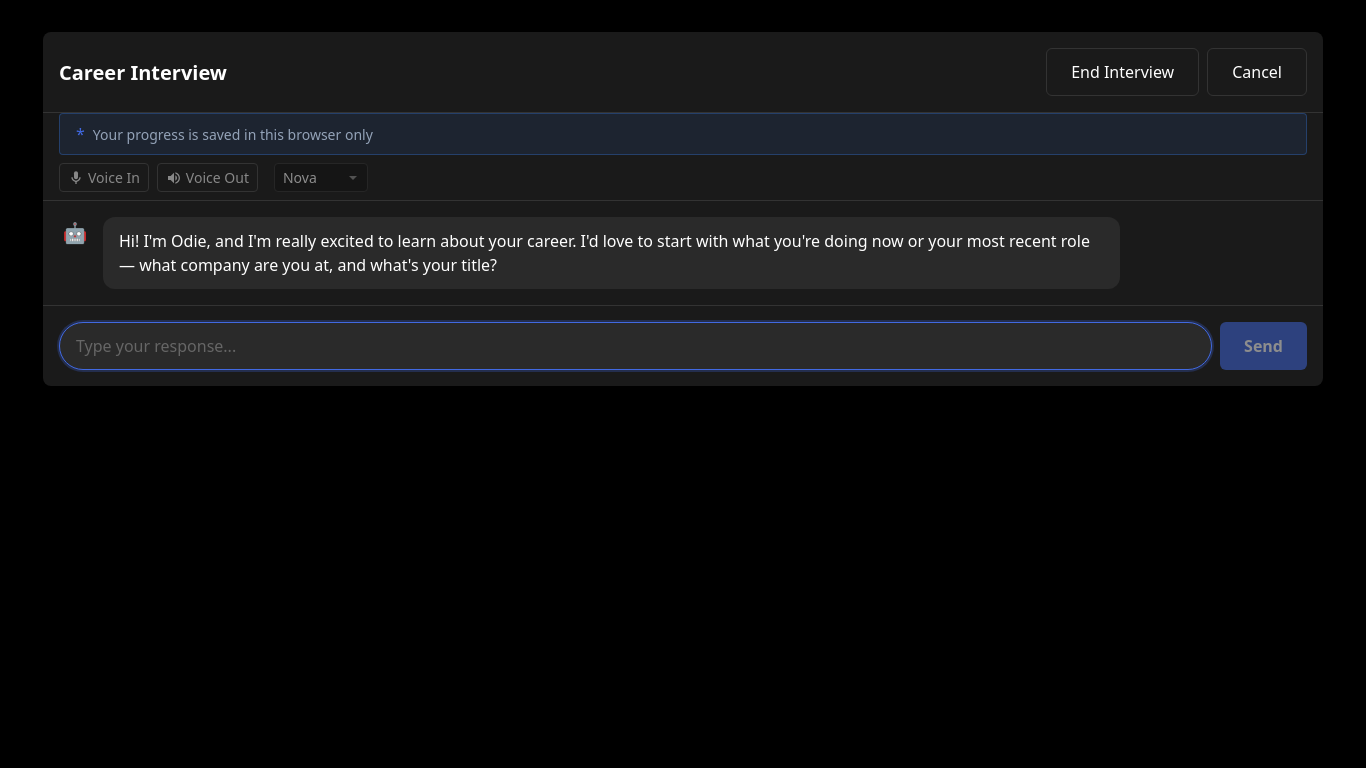
Test: InterviewChat Phase 2 streaming changes › atomic done transition › shouldContinue false from done event causes interview to complete
Step 1. Type "End now" into the field with test id "interview-input" → (636, 346), box [59, 322, 1212, 370]
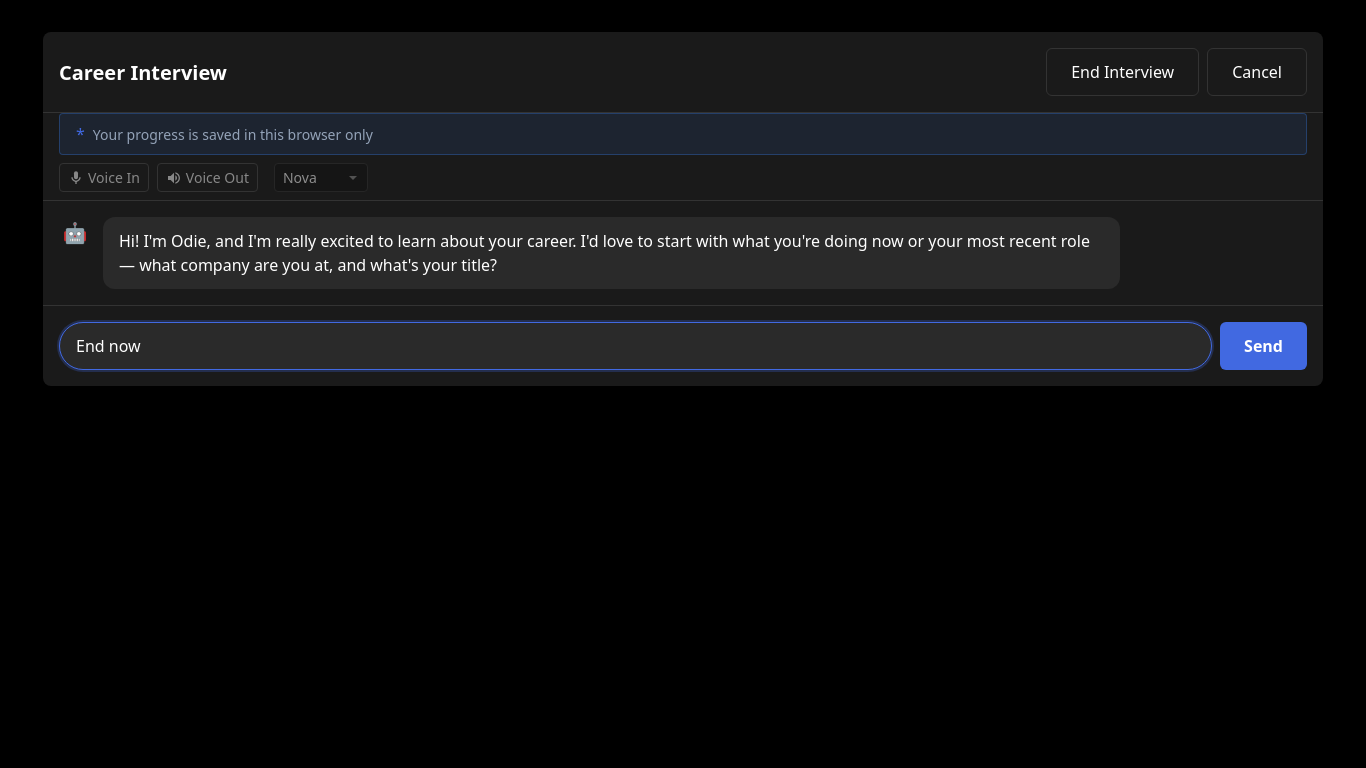
Step 2. Click the button with test id "interview-send" → (1264, 346), box [1220, 322, 1307, 370]
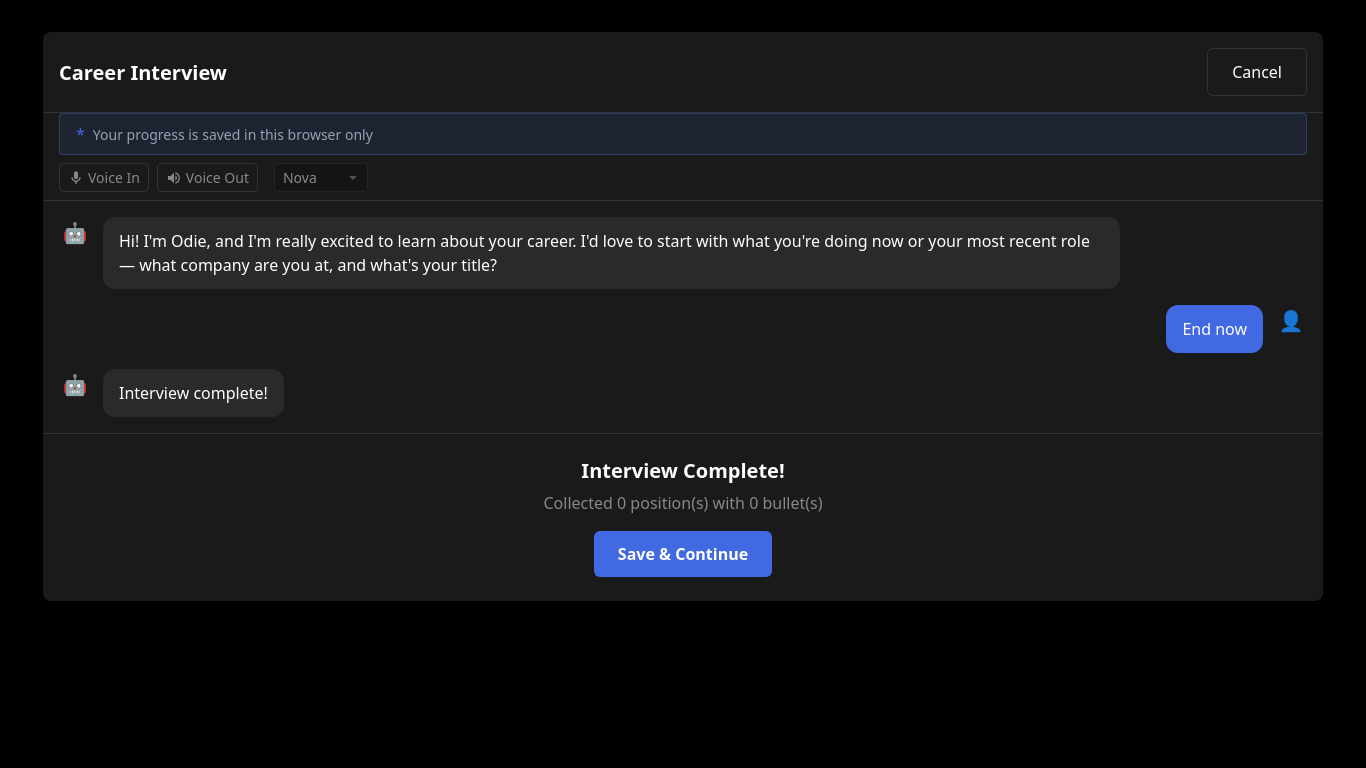
Now the element with test id "interview-complete" is shown, box [43, 433, 1323, 601]
